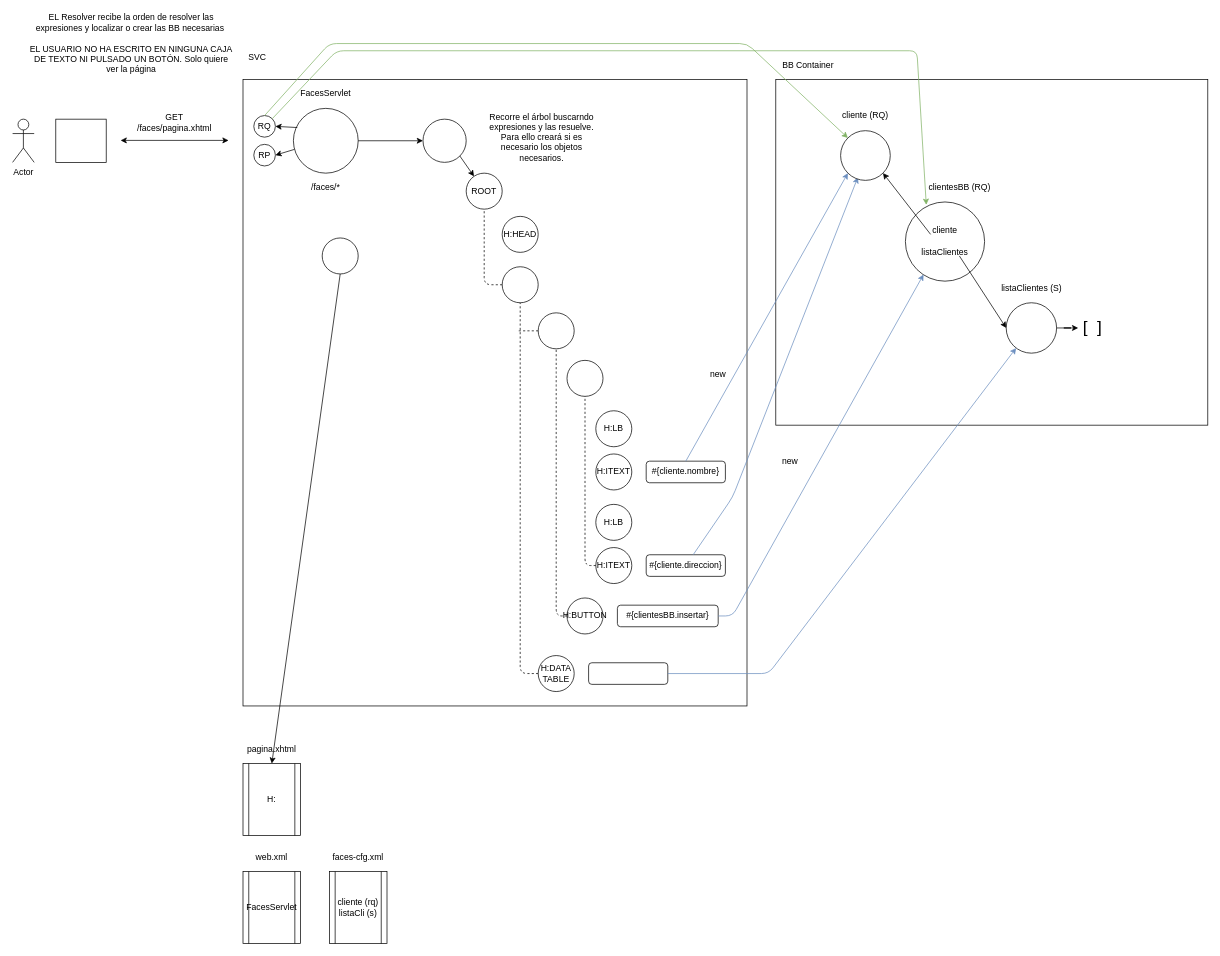
Some shapes in this 1220 by 956 pixel diagram are drawn without their labels. Each missing label, with the centre of its shape:
"#{listaClientes}" belongs at (628,673).
"EL Resolver" belongs at (444,140).
"FRONT CONTROLLER" belongs at (325,140).
"H:BODY" belongs at (519,284).
"H:FORM" belongs at (555,330).
"H:PGRID col:2" belongs at (584,378).
"n:null d:null t:0" belongs at (865,155).
"VACIO" belongs at (80,140).
"View Handler" belongs at (339,255).
